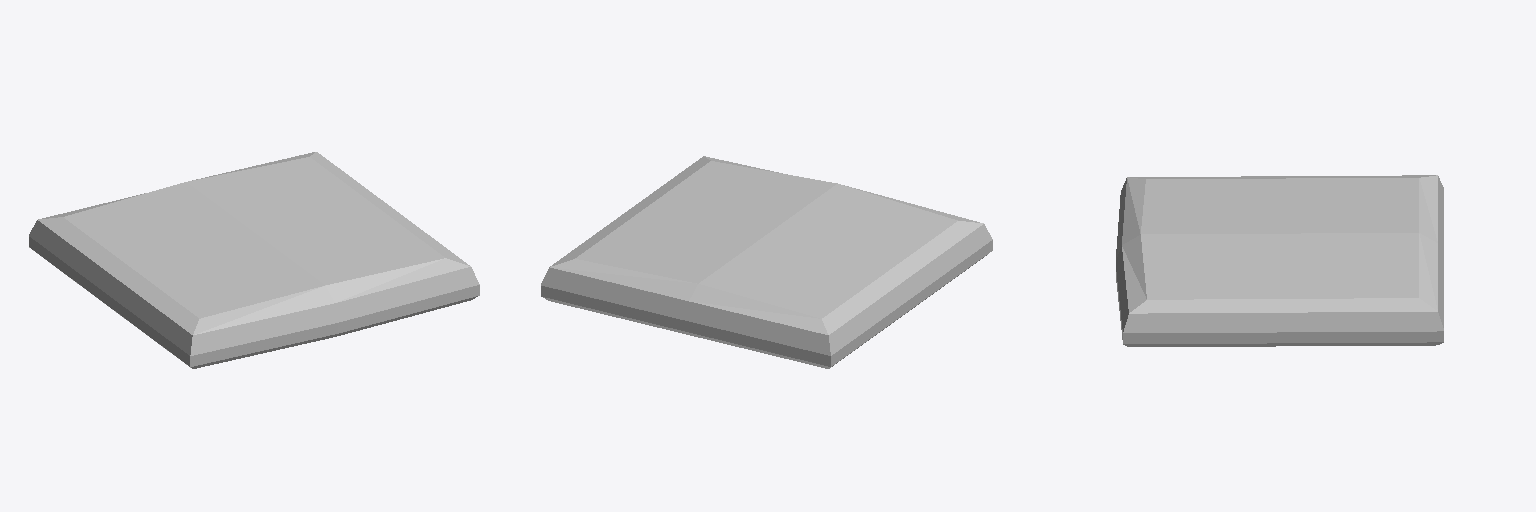
File: Cushion.obj
3 views of the same model, side by side, from view 1: azimuth 30°, elevation 25°; view 2: azimuth 150°, elevation 25°; view 3: azimuth 270°, elevation 25° (orthographic).
Visible parts, largest first — view 1: Cushion; view 2: Cushion; view 3: Cushion.
Part boxes in pixels (bbox=[...]): Cushion: bbox=[29, 152, 479, 368]; Cushion: bbox=[541, 156, 992, 368]; Cushion: bbox=[1116, 175, 1443, 346].
Bounding box in the file's own units: 30.36 × 4.64 × 29.78.